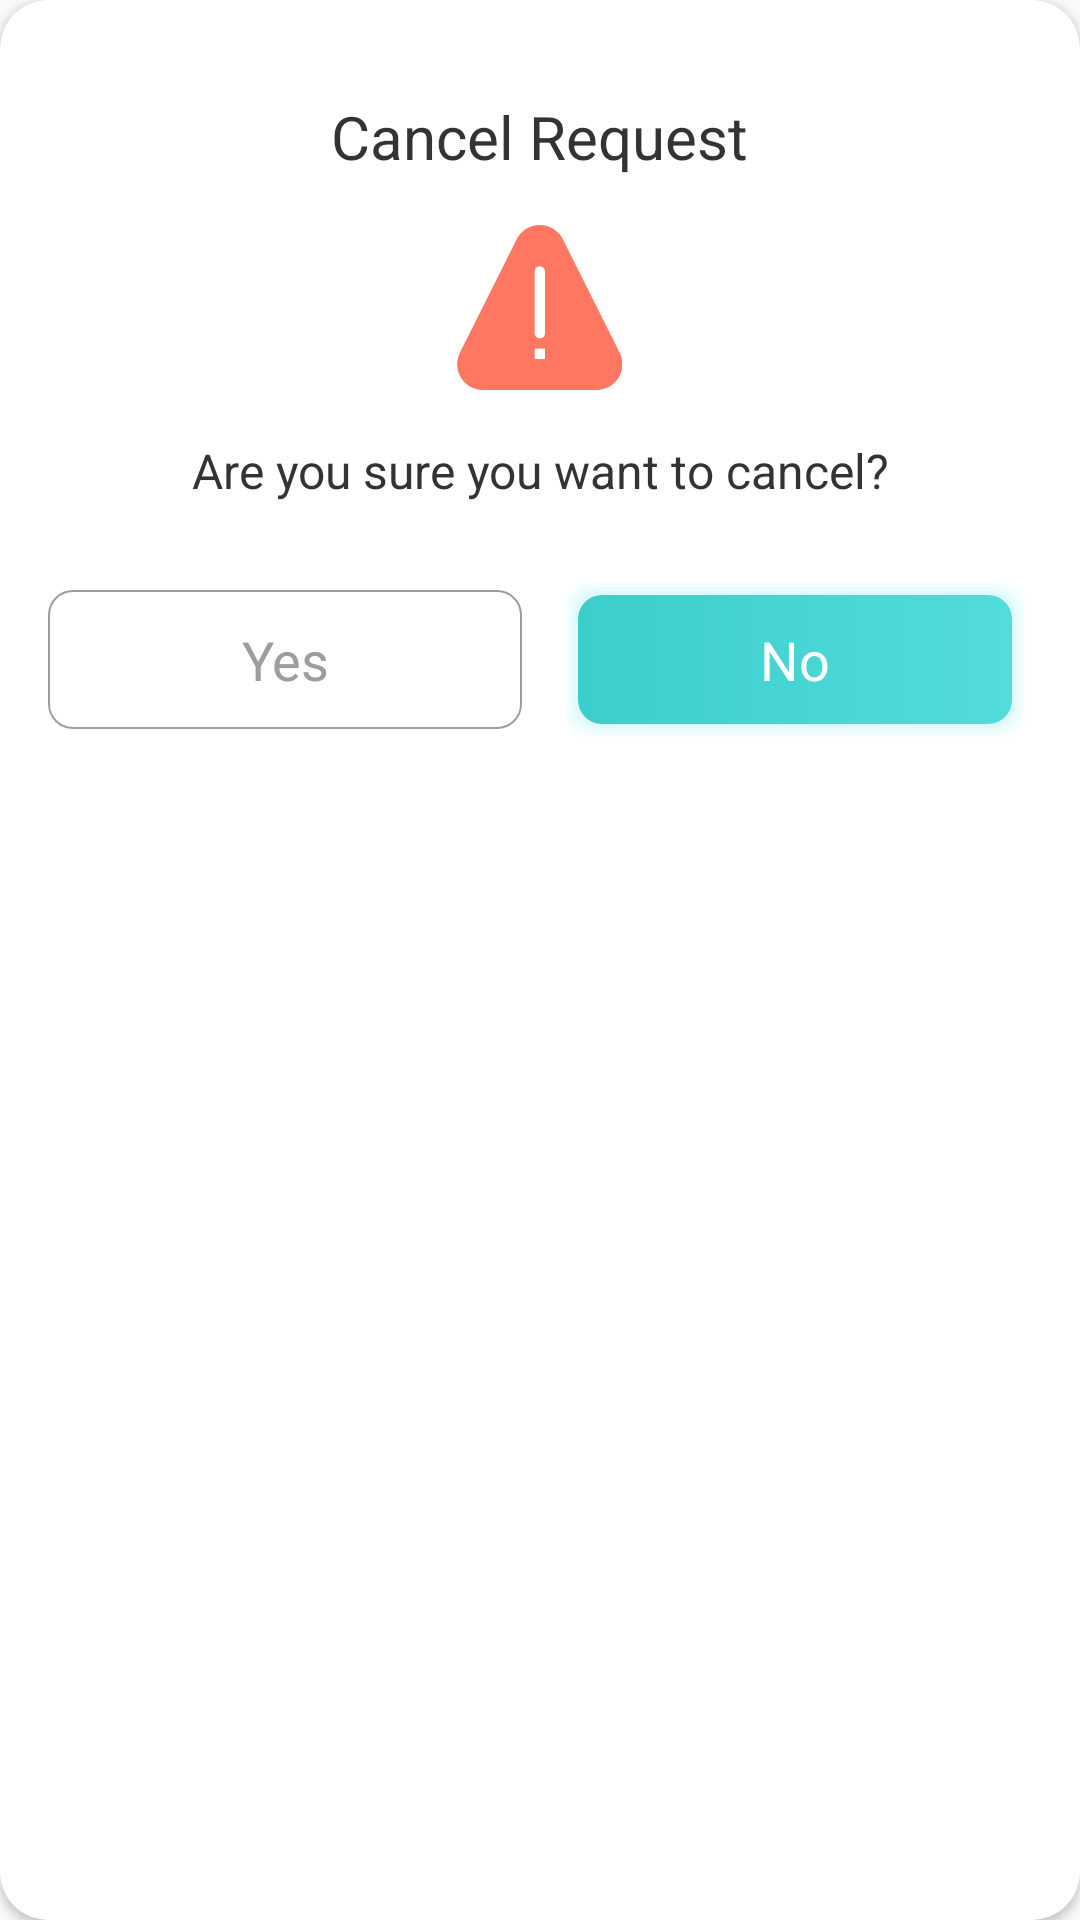

Icon click points for this 1080x1920 phone screenshot, format point (x, y):
triangle: point (539, 307)
